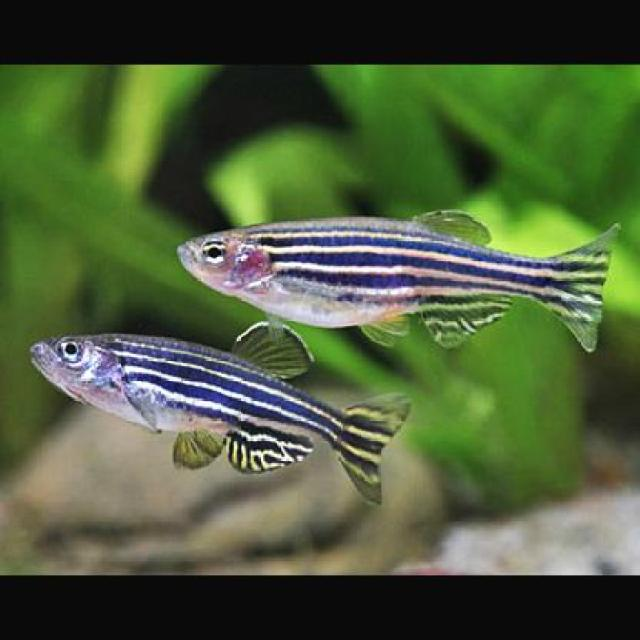ZebraFish: (31, 322, 409, 502), (173, 208, 622, 352)
